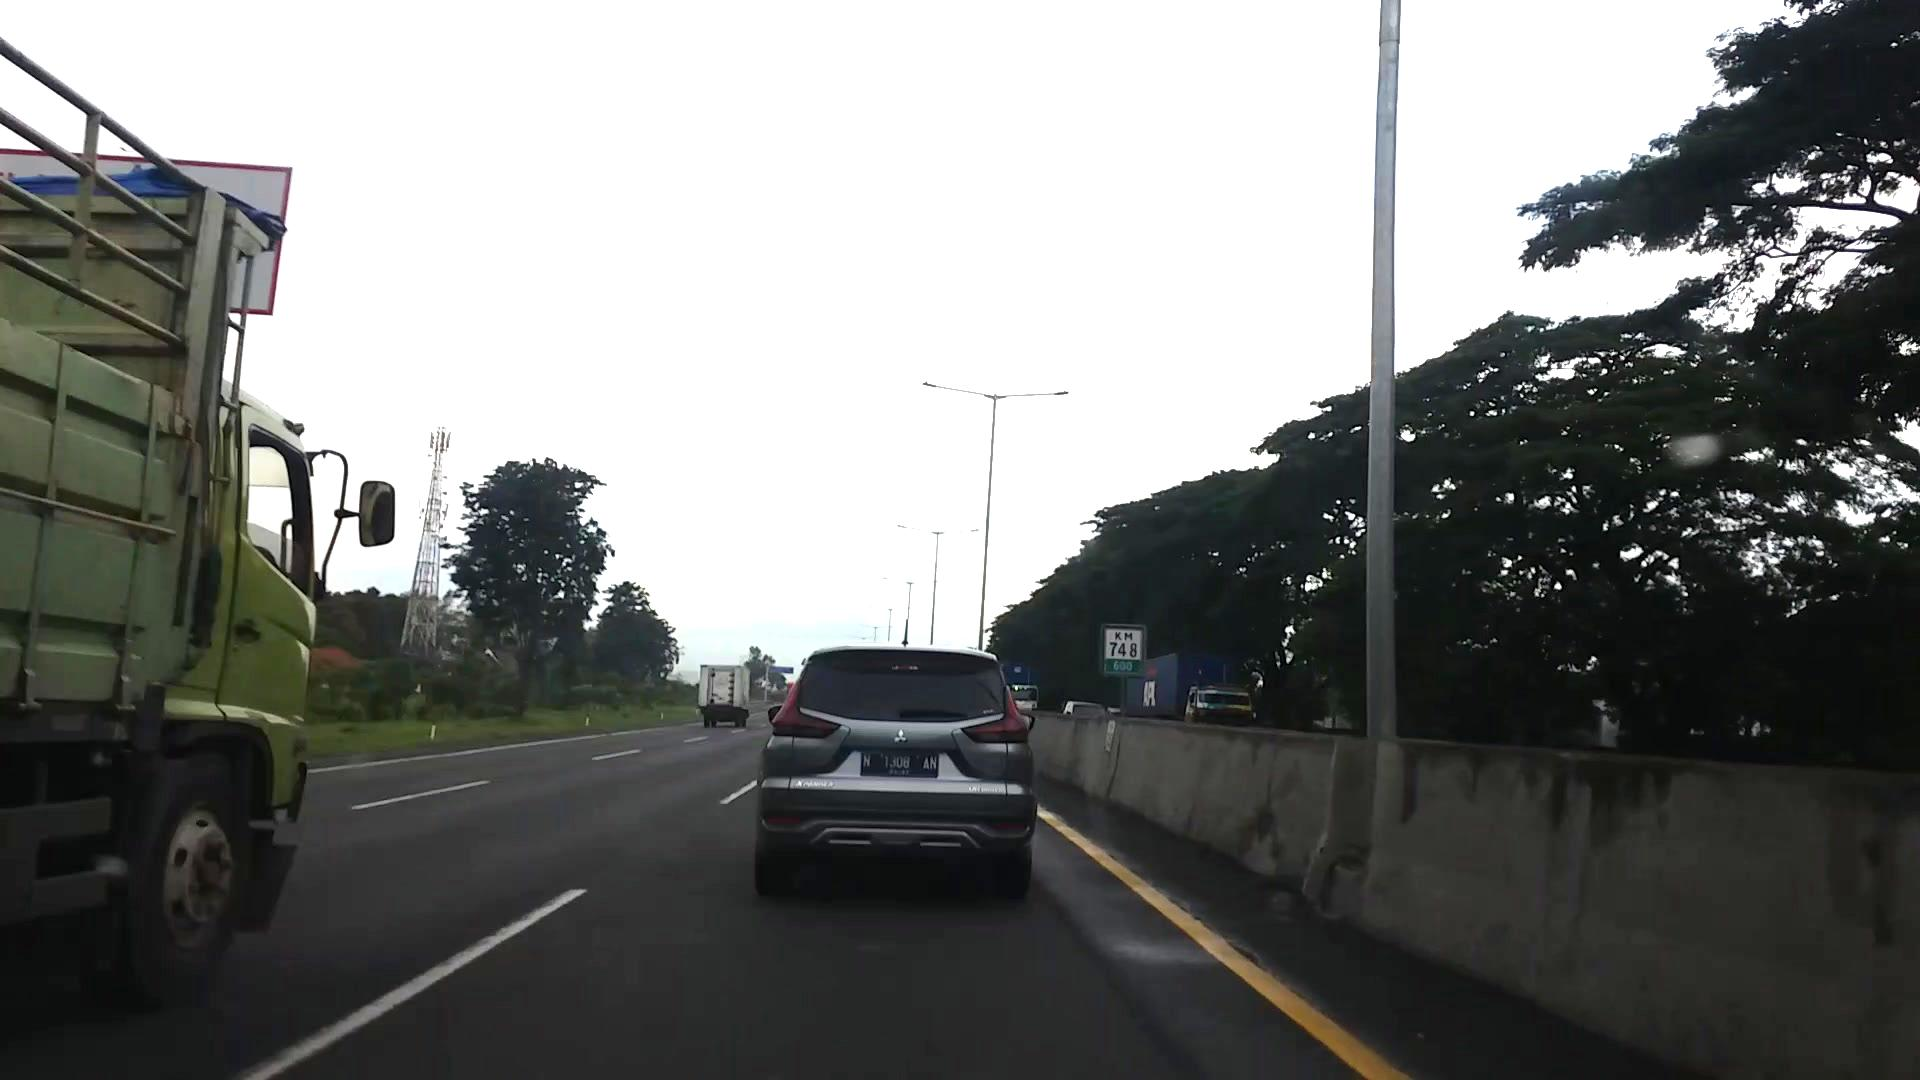plate_positive: (860, 746, 940, 779)
